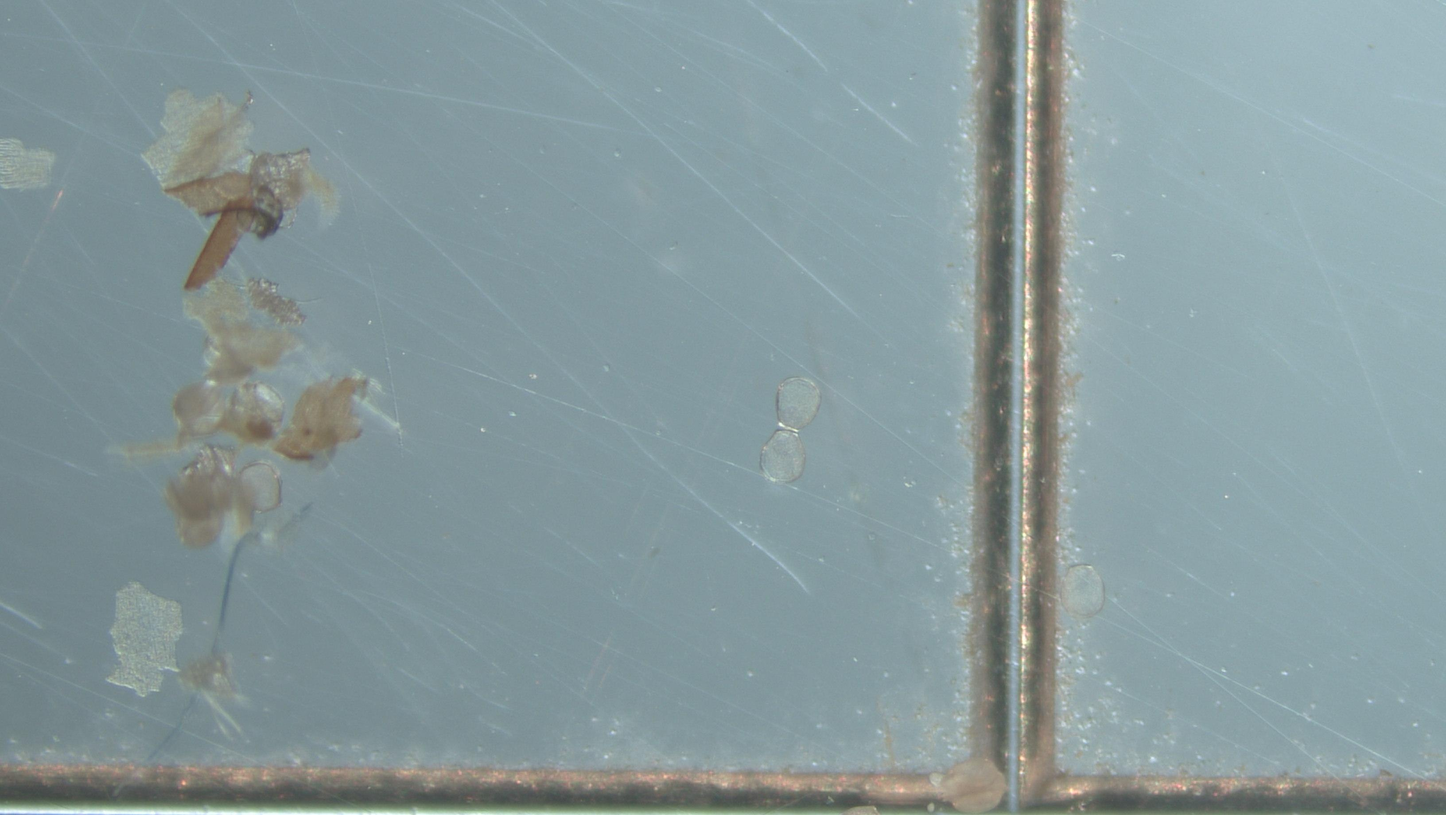dead: (1058, 564, 1106, 625), (760, 428, 806, 483), (777, 377, 821, 430)
